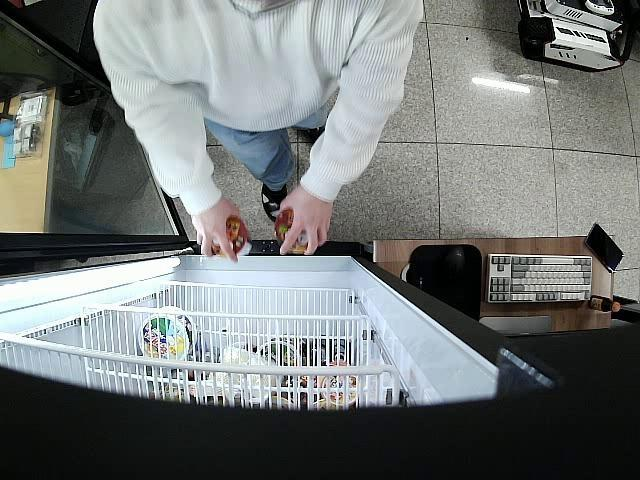06_nuguri_S: (272, 210, 316, 253), (211, 216, 253, 258)
